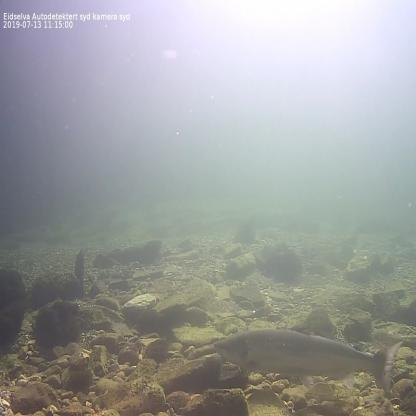salmon: (210, 318, 406, 399)
